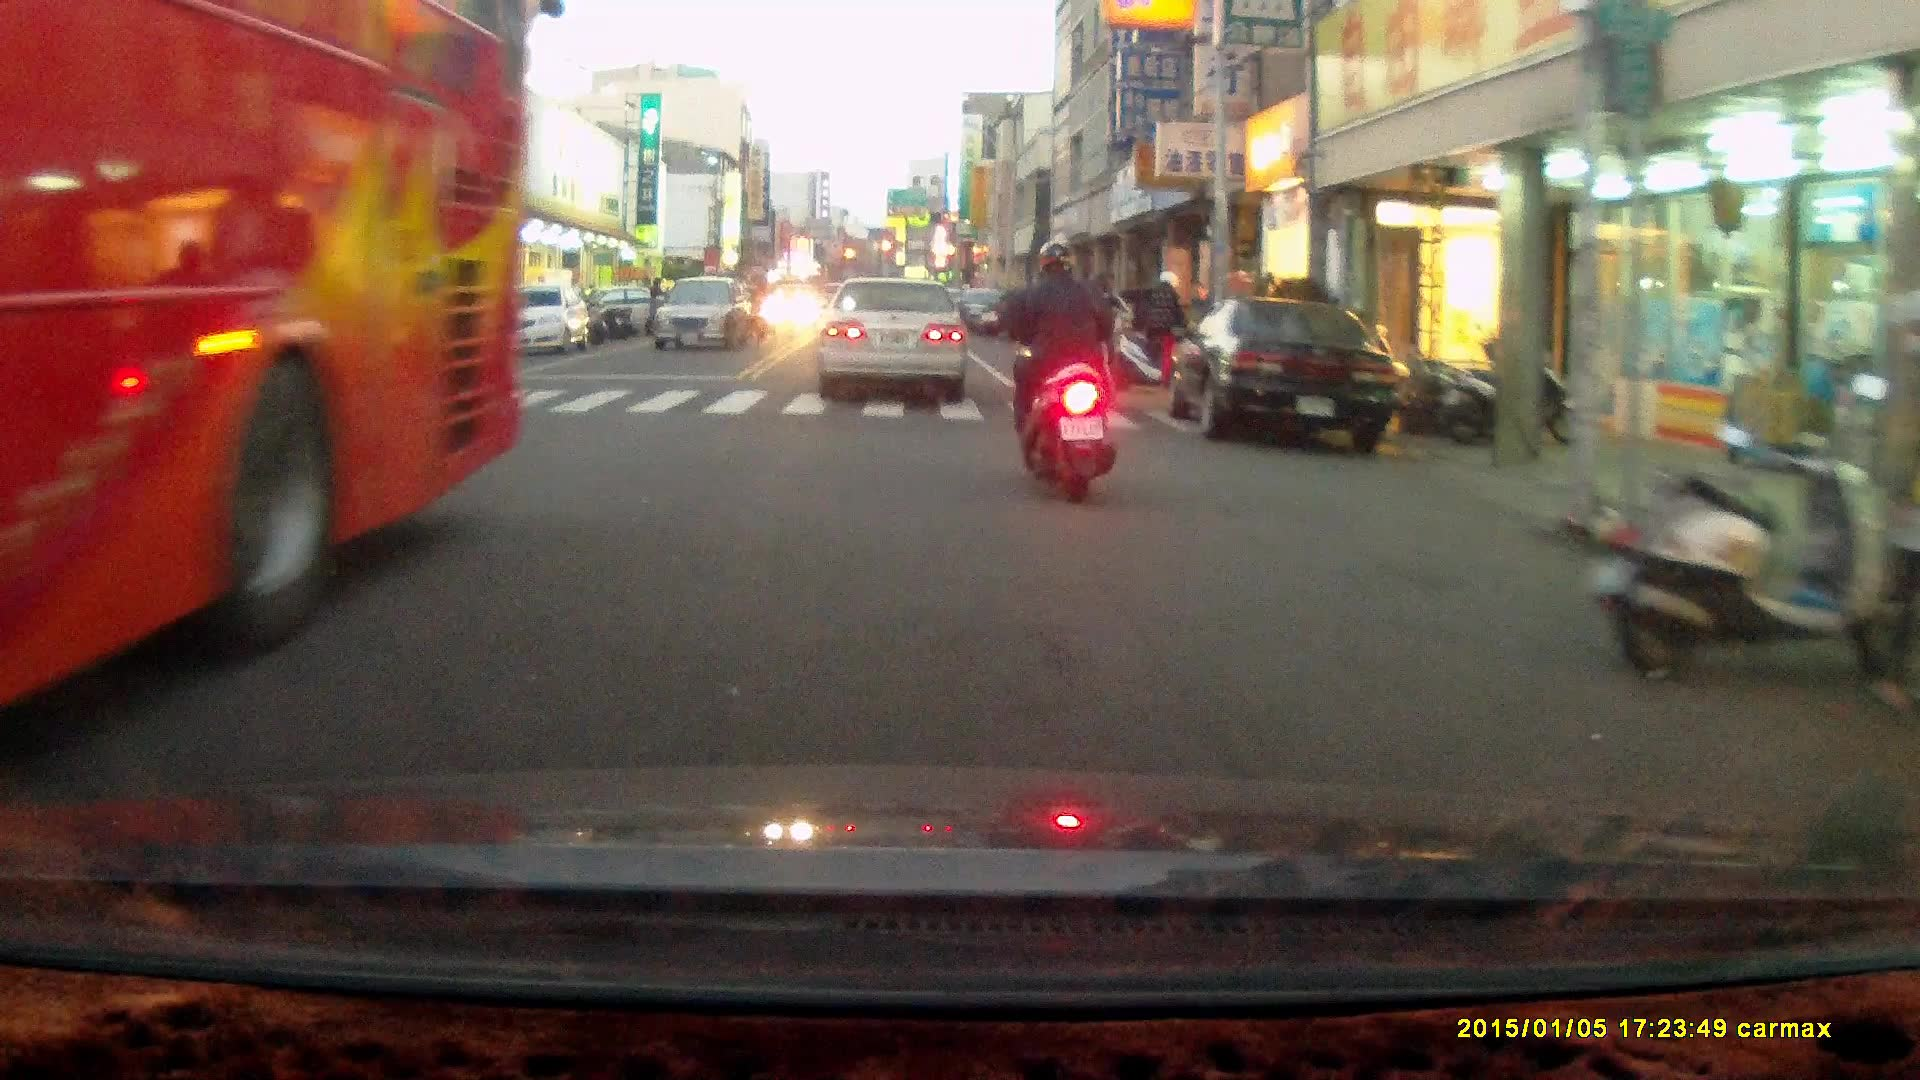pedestrian: (1150, 269, 1189, 397), (647, 277, 670, 344)
rider: (990, 241, 1116, 507)
vehicle: (1, 16, 529, 724), (1164, 302, 1412, 453), (818, 276, 972, 407), (475, 284, 586, 361), (652, 280, 752, 354)
